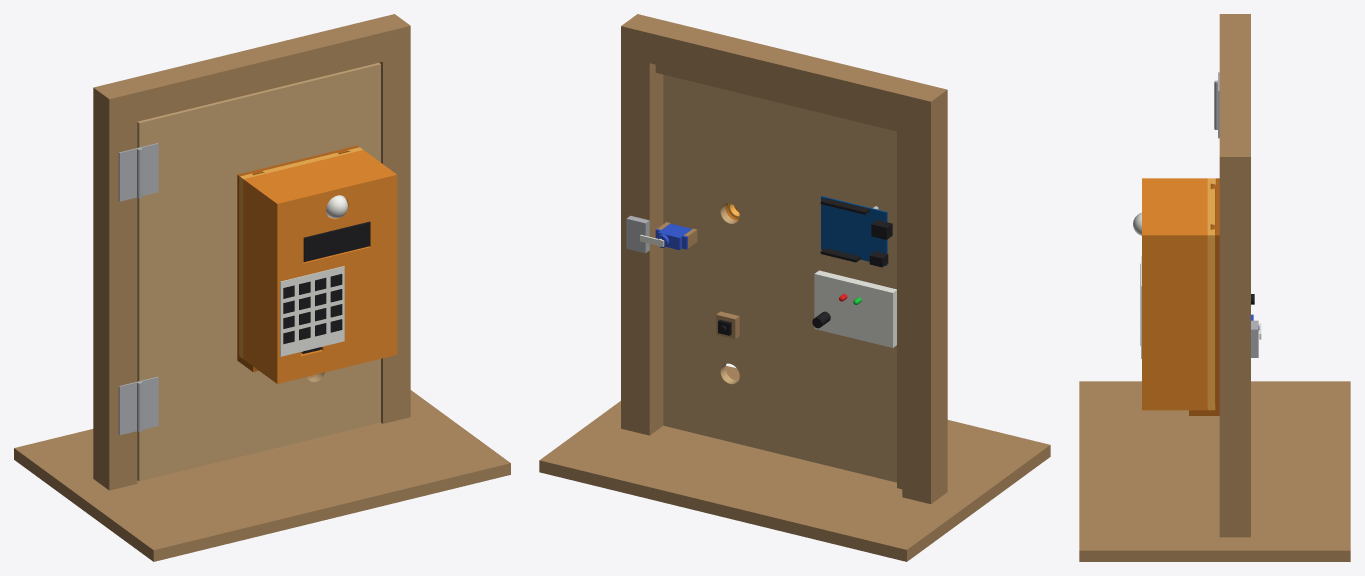
Rendered from doorlock_assembly.glb.
The picture shows the model from 3 angles, left to right: view 1: azimuth 30°, elevation 25°; view 2: azimuth 150°, elevation 25°; view 3: azimuth 270°, elevation 25°; orthographic projection. The views are drawn at different scales.
Visible parts, largest first — view 1: door, base, A_box_body, post_hinge, beam_top, post_latch, hinges, keypad_4x4, keypad_keys, lcd1602_bezel, A_box_cover, A_rail_bracket; view 2: door, base, post_hinge, post_latch, beam_top, breadboard_B, uno_pcb, stop_hinge, stop_top, uno_parts, strike, servo_SG90; view 3: base, A_box_body, post_latch, beam_top, A_box_cover, A_rail_bracket, post_hinge.
Part boxes in pixels (left/top/right/bottom): door: left=137, top=63, right=380, bottom=481; base: left=14, top=374, right=510, bottom=561; A_box_body: left=243, top=150, right=397, bottom=383; post_hinge: left=93, top=81, right=137, bottom=490; beam_top: left=121, top=21, right=382, bottom=121; post_latch: left=367, top=14, right=410, bottom=423; hinges: left=118, top=143, right=158, bottom=435; keypad_4x4: left=280, top=266, right=344, bottom=356; keypad_keys: left=283, top=274, right=342, bottom=344; lcd1602_bezel: left=303, top=222, right=370, bottom=262; A_box_cover: left=239, top=147, right=362, bottom=358; A_rail_bracket: left=237, top=145, right=358, bottom=371; door: left=663, top=74, right=896, bottom=482; base: left=539, top=365, right=1050, bottom=561; post_hinge: left=902, top=82, right=947, bottom=504; post_latch: left=621, top=14, right=665, bottom=435; beam_top: left=649, top=21, right=918, bottom=124; breadboard_B: left=814, top=270, right=896, bottom=347; uno_pcb: left=821, top=196, right=887, bottom=265; stop_hinge: left=897, top=123, right=902, bottom=489; stop_top: left=655, top=65, right=896, bottom=131; uno_parts: left=820, top=198, right=892, bottom=267; strike: left=626, top=215, right=649, bottom=253; servo_SG90: left=655, top=223, right=691, bottom=250; base: left=1079, top=381, right=1350, bottom=561; A_box_body: left=1142, top=178, right=1207, bottom=410; post_latch: left=1219, top=143, right=1250, bottom=537; beam_top: left=1219, top=27, right=1250, bottom=143; A_box_cover: left=1207, top=178, right=1214, bottom=410; A_rail_bracket: left=1189, top=178, right=1219, bottom=415; post_hinge: left=1219, top=14, right=1250, bottom=27.
Size of the model in its own units: 384 by 414 by 260.
